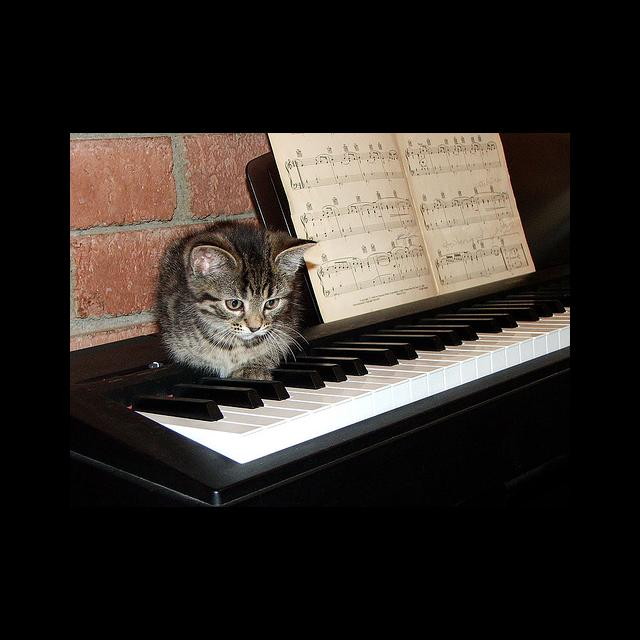animals: (193, 243, 315, 331)
